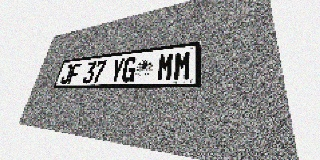3: (82, 61, 97, 83)
7: (91, 60, 107, 83)
F: (67, 63, 82, 84)
G: (121, 56, 138, 82)
J: (60, 64, 74, 84)
M: (173, 50, 192, 81), (156, 52, 175, 81)
Y: (109, 58, 125, 83)
